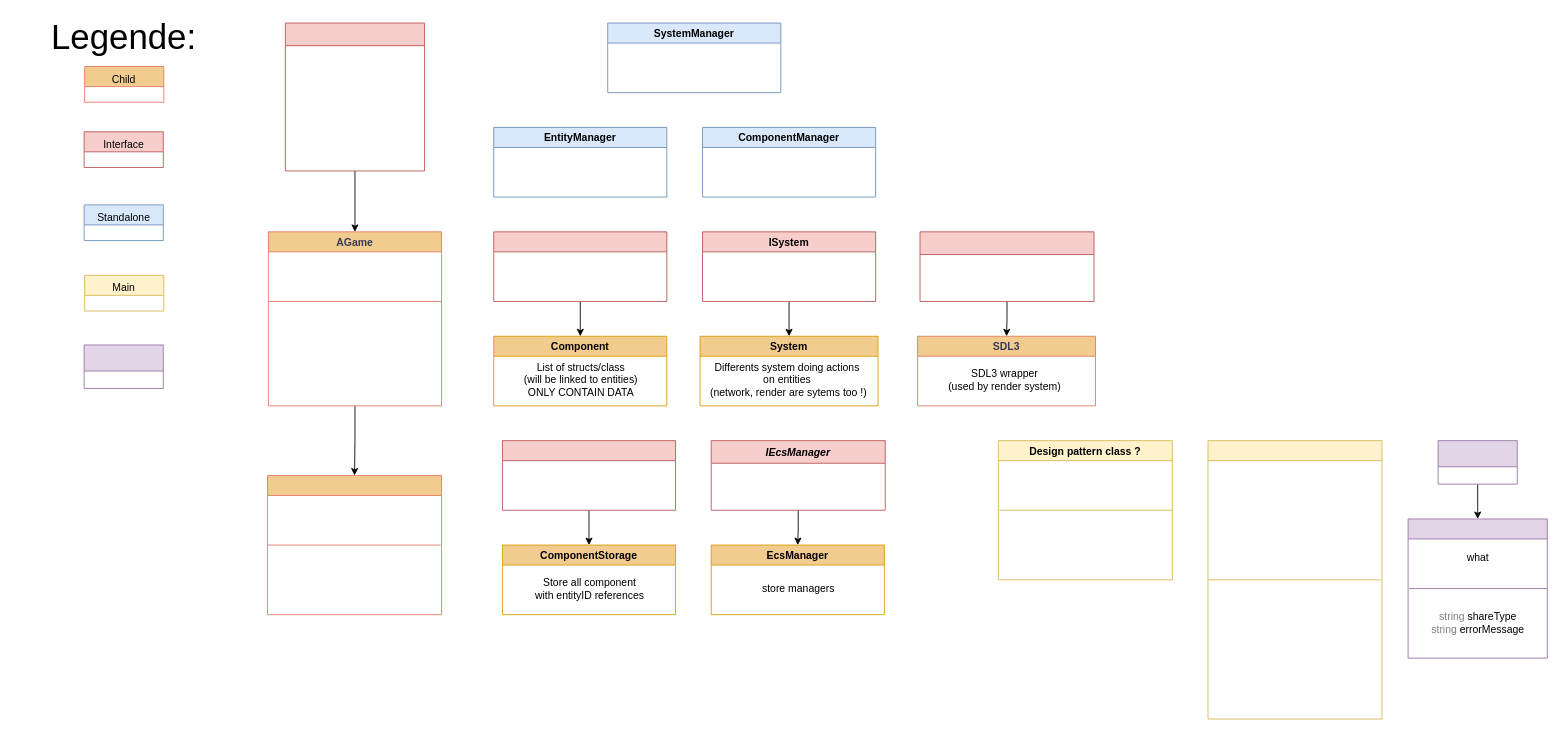
This 1563x734 diagram has some shape labels left out. The centre of each missing label's shape, as x and y in pixels:
Core: (x=1294, y=579)
Error Handling: (x=123, y=366)
IComponent: (x=580, y=266)
IComponentStorage: (x=589, y=475)
IDisplay: (x=1006, y=266)
IGame: (x=354, y=96)
R-Type: (x=354, y=545)
std::Exception: (x=1477, y=462)
